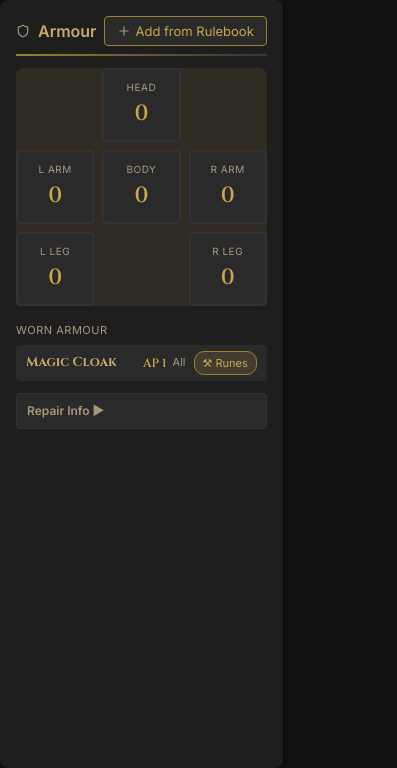
ArmourMap — location selection › matches armour with "All" locations to every body part
This screenshot has width=397, height=768.
Click the button with test id "location-rLeg": (228, 269) [188,232,267,306]
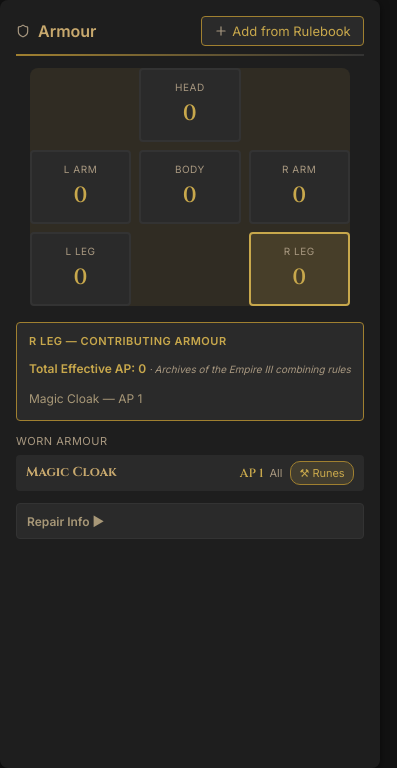
Expected: the element with test id "contributing-armour" shows "Magic Cloak", [29,390,99,406]
